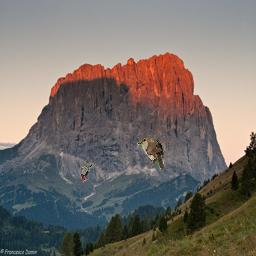Cuckoo: (138, 137, 165, 169)
Woodpecker: (80, 163, 92, 184)
